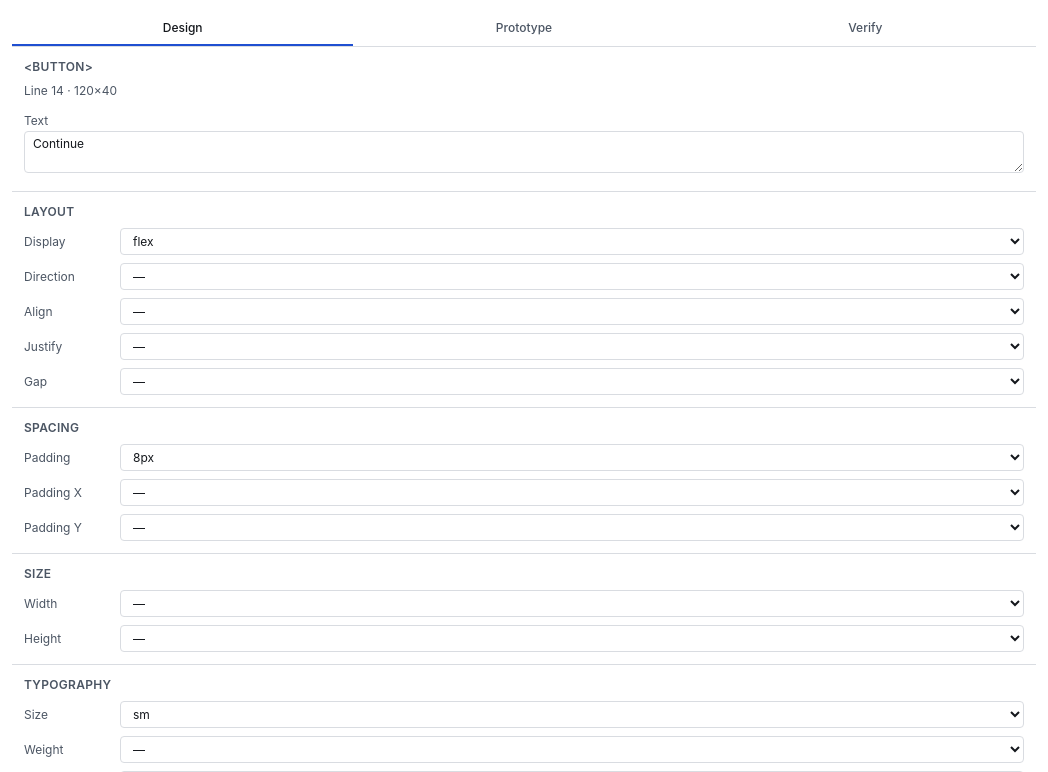
Scenario: RightPanel verify tab › explains the latest failed run
Step 1. Click the tab "Verify" → {"x": 865, "y": 29}, box [695,12,1036,46]
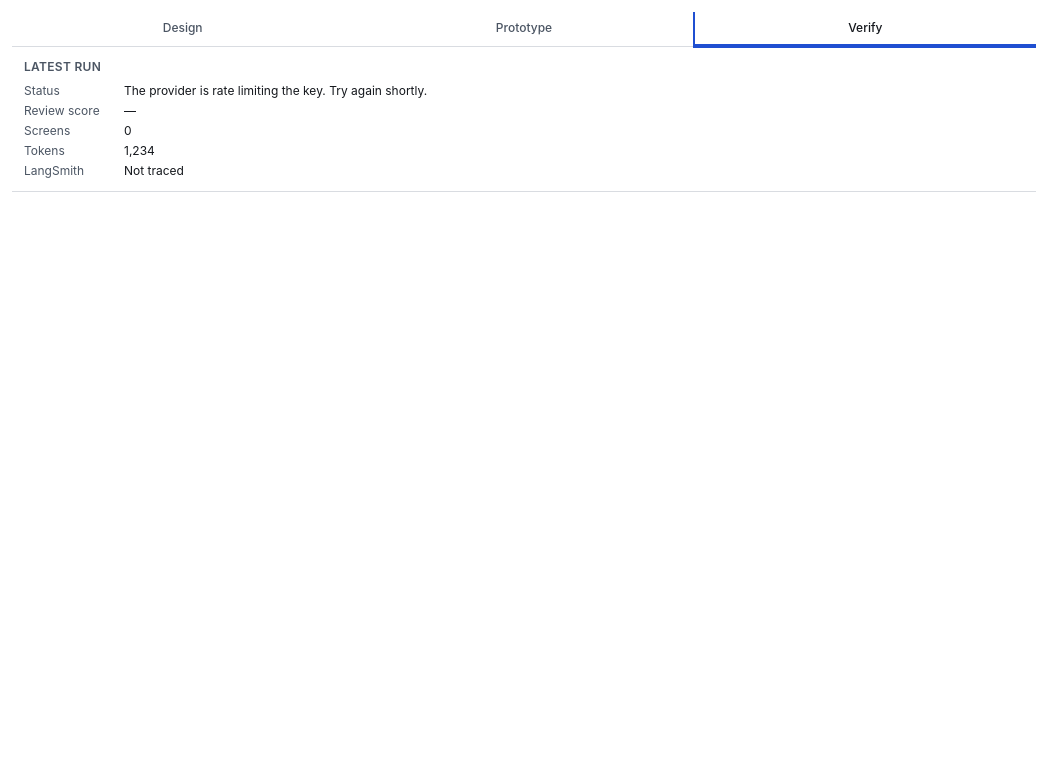
Expected: the text "The provider is rate limiting the key. Try again shortly." is shown, [124,83,427,98]
Expected: the text "Not traced" is shown, [124,163,184,178]
